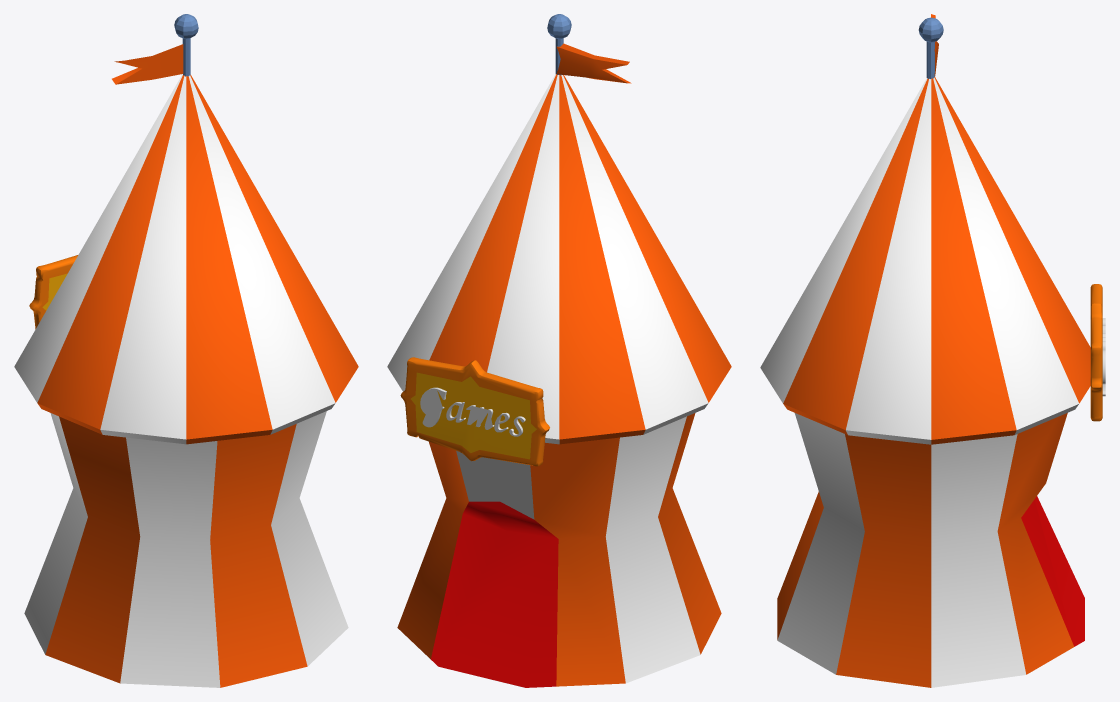
File: SmallGamesTent.fbx
The picture shows the model from 3 angles, left to right: view 1: azimuth 30°, elevation 25°; view 2: azimuth 150°, elevation 25°; view 3: azimuth 270°, elevation 25°; orthographic projection.
Parts seen in each view (by area): view 1: CircusTentTop, CircusTentBody, Flag, GamesSign; view 2: CircusTentTop, CircusTentBody, GamesSign, GamesSignText, Flag; view 3: CircusTentTop, CircusTentBody, GamesSign.
Part boxes in pixels (x1,y1,x2,y2): CircusTentTop: (14,74,358,444); CircusTentBody: (24,411,348,687); Flag: (112,44,183,84); GamesSign: (29,255,77,329); CircusTentTop: (387,74,731,444); CircusTentBody: (397,413,721,687); GamesSign: (400,357,549,466); GamesSignText: (420,387,525,436); Flag: (556,43,631,83); CircusTentTop: (760,77,1090,444); CircusTentBody: (777,413,1084,687); GamesSign: (1090,284,1102,421).
Size of the model in its own units: 3.86 by 7.48 by 3.9.
